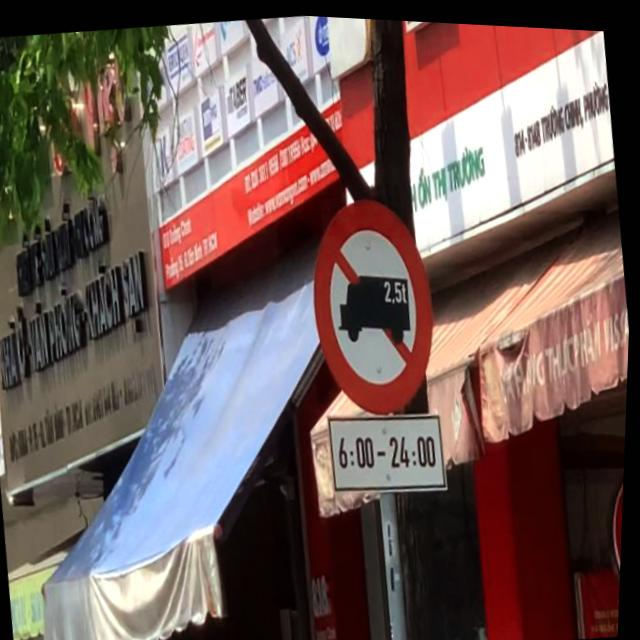Cam xe tai tren 2_5: (300, 184, 452, 420)
